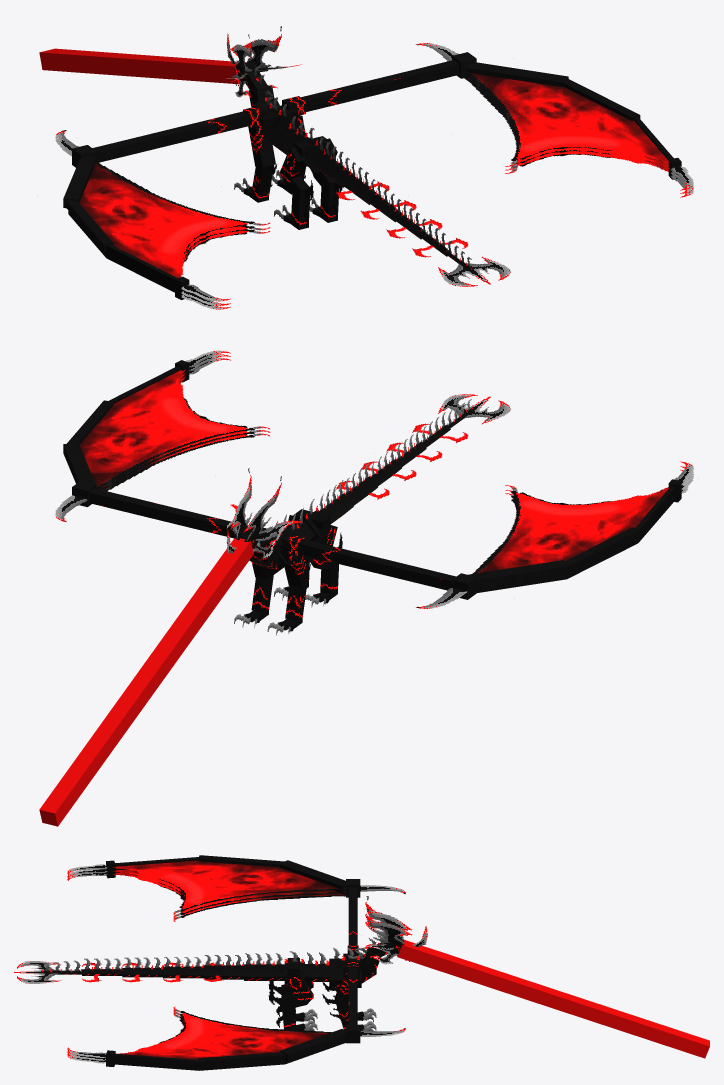
The model's file is void_dragon_not_animated.glb.
3 renders of one model, top to bottom at view 1: azimuth 30°, elevation 25°; view 2: azimuth 150°, elevation 25°; view 3: azimuth 270°, elevation 25°, orthographic. The views are drawn at different scales.
Parts seen in each view (by area): view 1: cube_63, cube_105, cube_200, cube_52, cube_94, cube_55, cube_93, cube_51, cube_30, cube_85, cube_74, cube_97 (+10 smaller); view 2: cube_200, cube_63, cube_105, cube_52, cube_97, cube_94, cube_98, cube_93, cube_30, cube_51, cube_55; view 3: cube_200, cube_105, cube_63, cube_116, cube_55, cube_127, cube_56, cube_97, cube_30, cube_98, cube_49, cube_265 (+9 smaller).
Boxes of the visible parts, bbox=[...] form: cube_63: bbox=[464, 70, 669, 166]; cube_105: bbox=[79, 161, 269, 277]; cube_200: bbox=[39, 48, 246, 84]; cube_52: bbox=[360, 60, 459, 97]; cube_94: bbox=[92, 126, 188, 162]; cube_55: bbox=[466, 62, 568, 87]; cube_93: bbox=[183, 111, 249, 140]; cube_51: bbox=[301, 83, 365, 111]; cube_30: bbox=[438, 256, 511, 286]; cube_85: bbox=[464, 77, 669, 173]; cube_74: bbox=[463, 73, 669, 170]; cube_97: bbox=[63, 156, 96, 208]; cube_200: bbox=[39, 538, 253, 826]; cube_63: bbox=[79, 369, 269, 489]; cube_105: bbox=[472, 485, 668, 573]; cube_52: bbox=[89, 488, 188, 525]; cube_97: bbox=[468, 560, 568, 589]; cube_94: bbox=[360, 554, 456, 590]; cube_98: bbox=[565, 527, 640, 572]; cube_93: bbox=[299, 539, 365, 568]; cube_30: bbox=[438, 394, 511, 424]; cube_51: bbox=[183, 511, 235, 538]; cube_55: bbox=[63, 443, 95, 483]; cube_200: bbox=[397, 940, 709, 1058]; cube_105: bbox=[113, 860, 345, 915]; cube_63: bbox=[118, 1006, 331, 1059]; cube_116: bbox=[113, 869, 345, 919]; cube_55: bbox=[280, 1029, 346, 1061]; cube_127: bbox=[113, 872, 345, 921]; cube_56: bbox=[198, 1052, 285, 1066]; cube_97: bbox=[280, 860, 345, 893]; cube_30: bbox=[14, 961, 61, 983]; cube_98: bbox=[198, 855, 284, 867]; cube_49: bbox=[329, 958, 361, 987]; cube_265: bbox=[285, 971, 313, 1004].
Bounding box in the file's own units: 19.72 × 6.86 × 28.23.
Materials: 1 (1 with a texture image).
